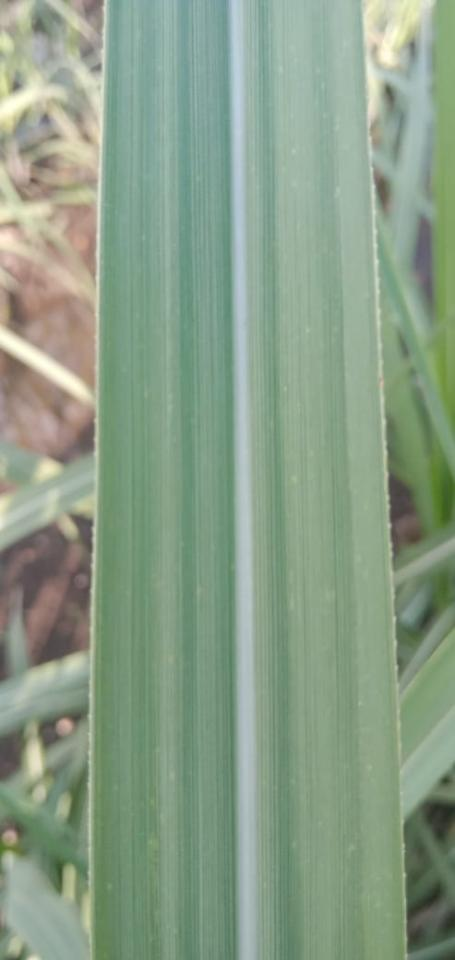Healthy: (90, 0, 404, 959)
